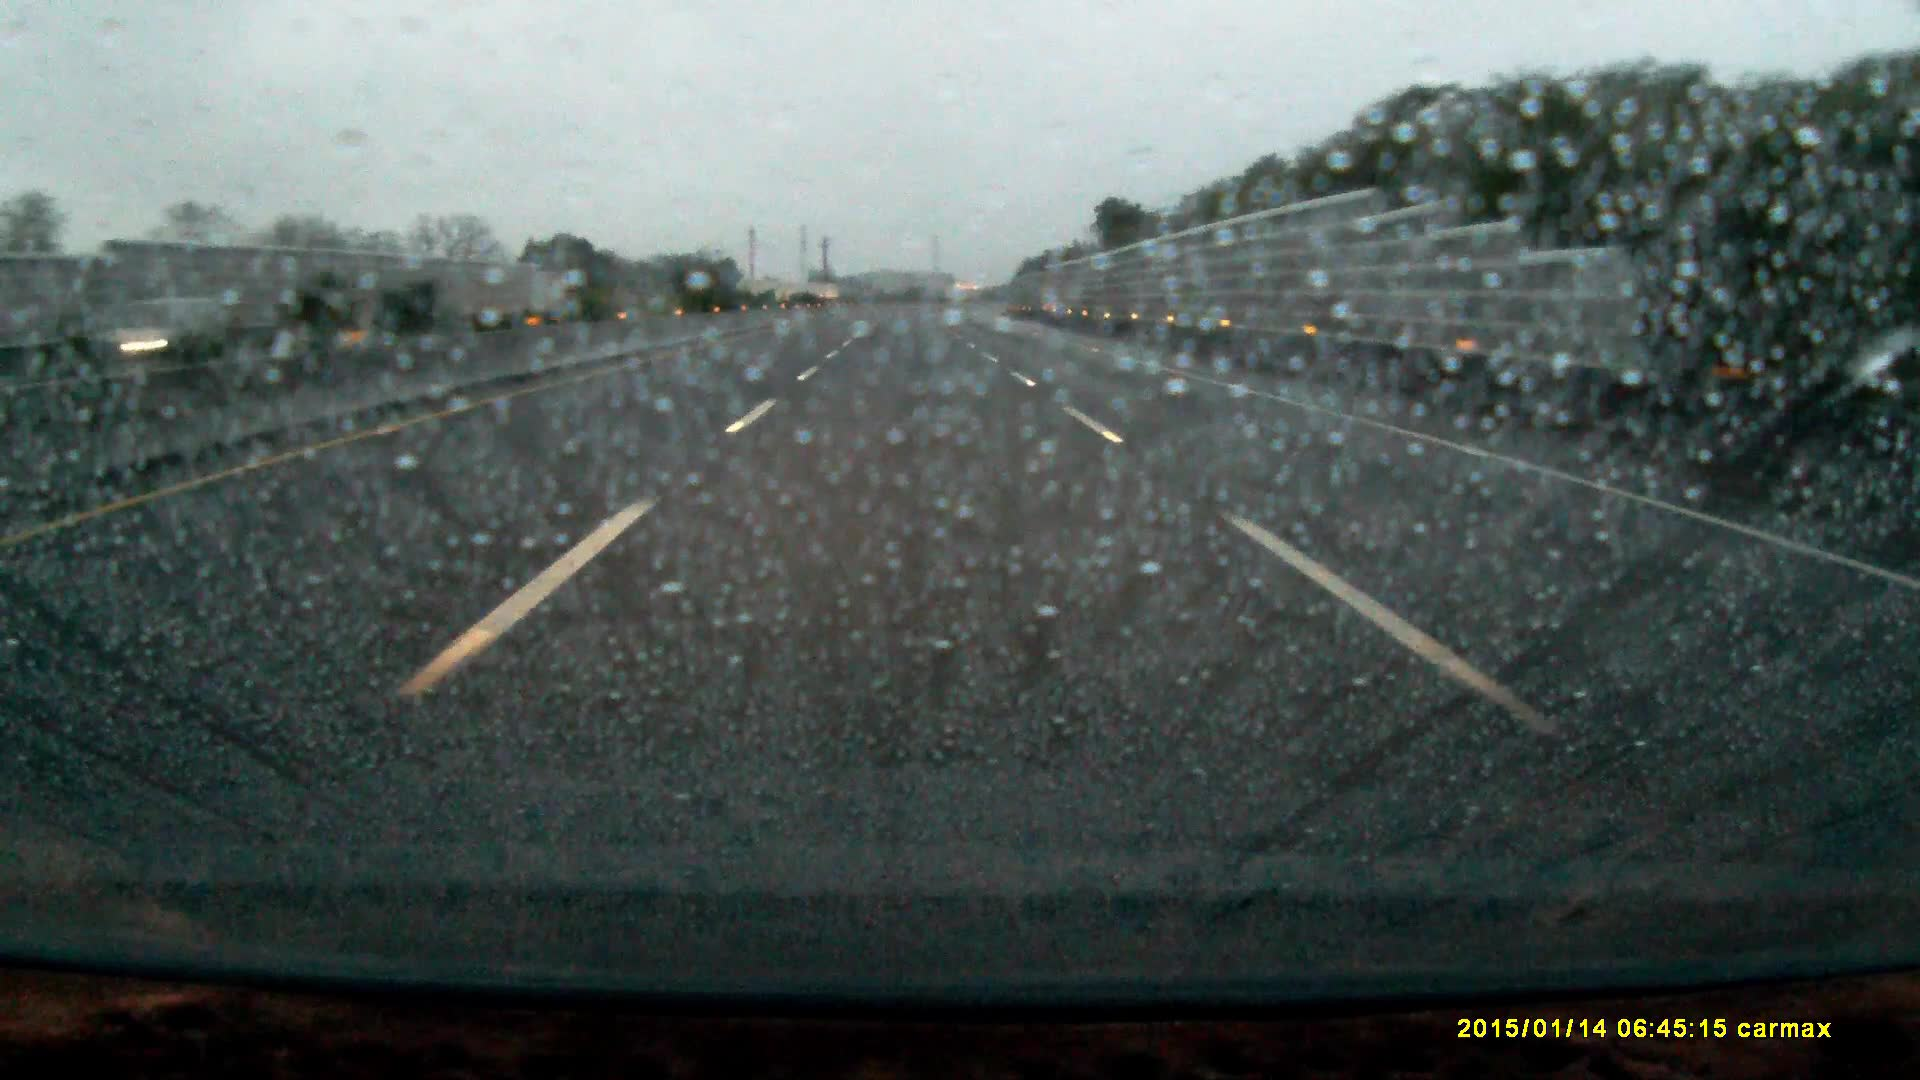vehicle: (108, 295, 222, 357)
